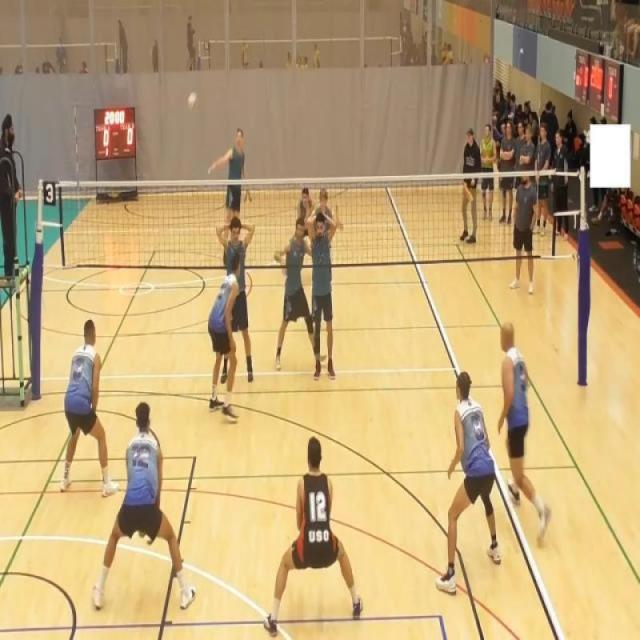volleyball: (187, 91, 197, 112)
